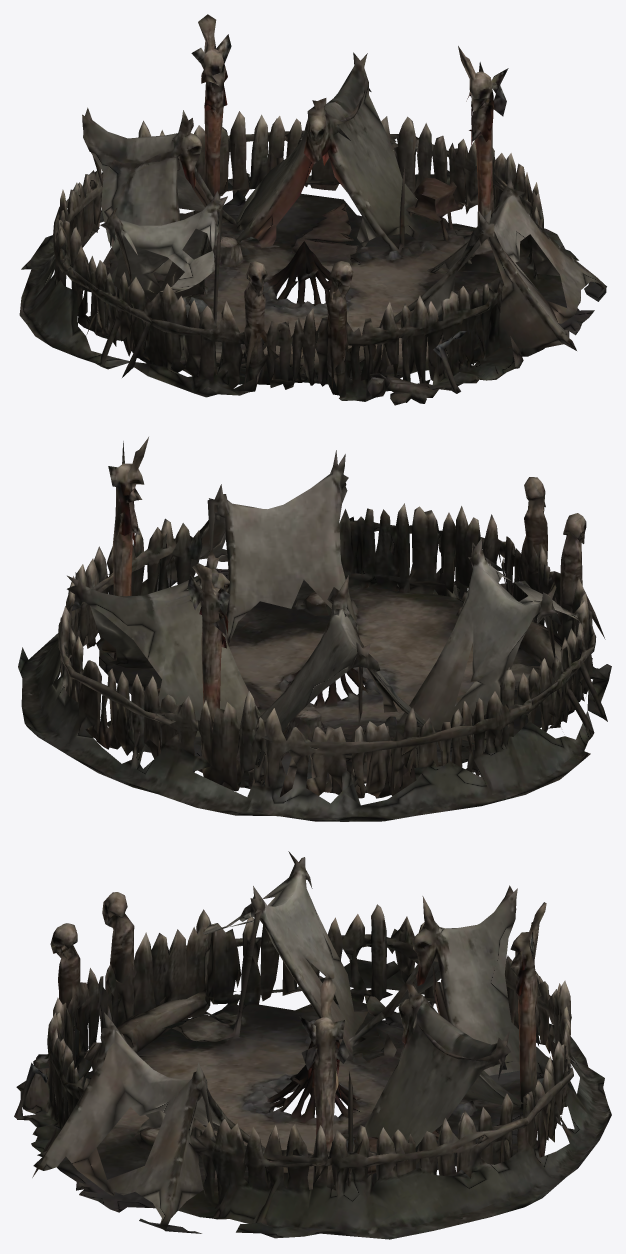
File: tribal_outpost.glb
3 views of the same model, one above another, from view 1: azimuth 30°, elevation 25°; view 2: azimuth 150°, elevation 25°; view 3: azimuth 270°, elevation 25° (orthographic). The views are drawn at different scales.
Visible parts, largest first — view 1: geometry_0; view 2: geometry_0; view 3: geometry_0.
Part boxes in pixels (box(x1,y1,x2,y2)): geometry_0: box(19, 14, 606, 405); geometry_0: box(18, 437, 611, 821); geometry_0: box(14, 851, 611, 1239).
Bounding box in the file's own units: 0.9656 × 0.3915 × 0.9287.
1 material, 1 textured.
